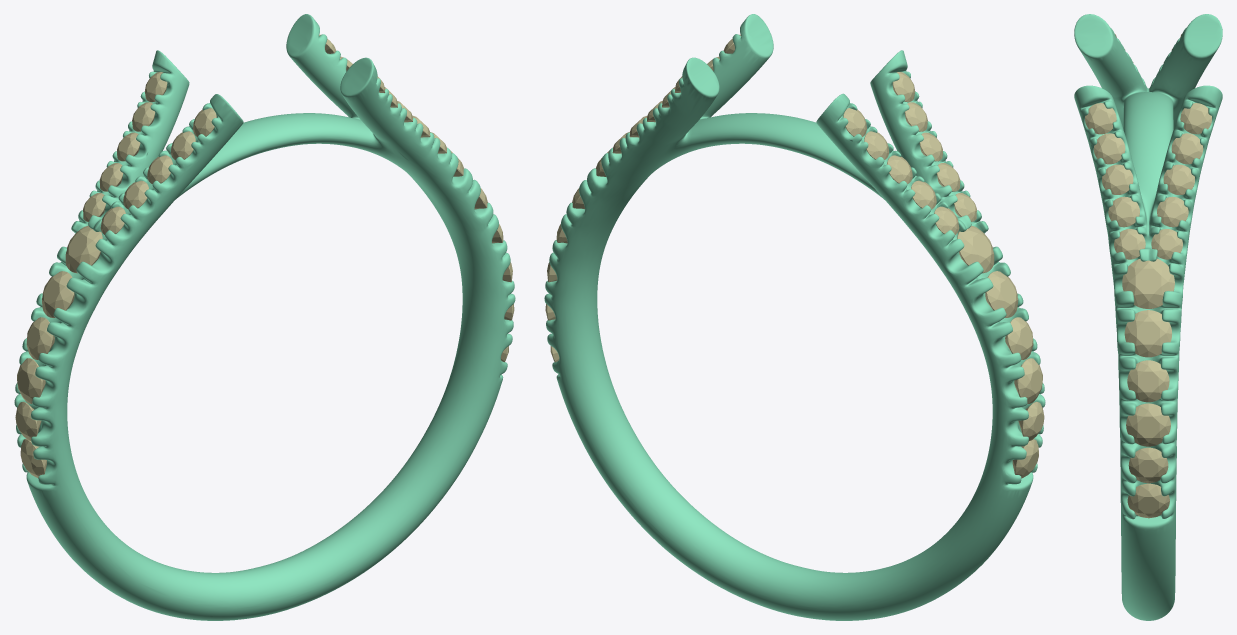
3 renders of one model, left to right at view 1: azimuth 30°, elevation 25°; view 2: azimuth 150°, elevation 25°; view 3: azimuth 270°, elevation 25°, orthographic. The views are drawn at different scales.
Parts seen in each view (by area): view 1: Metal02, Diamond_Gem.001, Diamond_Gem.026, Diamond_Gem.024, Diamond_Gem.025; view 2: Metal02, Diamond_Gem.001, Diamond_Gem.026, Diamond_Gem.024, Diamond_Gem.025; view 3: Metal02, Diamond_Gem.002, Diamond_Gem.008, Diamond_Gem.010, Diamond_Gem.009, Diamond_Gem.011, Diamond_Gem.012, Diamond_Gem.014, Diamond_Gem.007, Diamond_Gem.006, Diamond_Gem.013, Diamond_Gem.015 (+5 smaller).
Boxes of the visible parts, x1,y1,x2,y2 form: Metal02: [14, 14, 515, 620]; Diamond_Gem.001: [65, 225, 102, 273]; Diamond_Gem.026: [42, 271, 74, 317]; Diamond_Gem.024: [17, 358, 45, 403]; Diamond_Gem.025: [26, 317, 54, 359]; Metal02: [544, 14, 1045, 620]; Diamond_Gem.001: [957, 225, 994, 273]; Diamond_Gem.026: [985, 271, 1018, 317]; Diamond_Gem.024: [1014, 358, 1042, 403]; Diamond_Gem.025: [1005, 317, 1033, 359]; Metal02: [1074, 14, 1222, 620]; Diamond_Gem.002: [1122, 259, 1174, 308]; Diamond_Gem.008: [1124, 310, 1172, 357]; Diamond_Gem.010: [1126, 403, 1170, 446]; Diamond_Gem.009: [1127, 360, 1169, 402]; Diamond_Gem.011: [1128, 447, 1168, 483]; Diamond_Gem.012: [1127, 483, 1169, 518]; Diamond_Gem.014: [1171, 133, 1203, 164]; Diamond_Gem.007: [1085, 103, 1116, 134]; Diamond_Gem.006: [1093, 133, 1125, 164]; Diamond_Gem.013: [1180, 103, 1211, 134]; Diamond_Gem.015: [1163, 164, 1194, 194].
Size of the model in its own units: 20.95 by 22.83 by 5.64.
